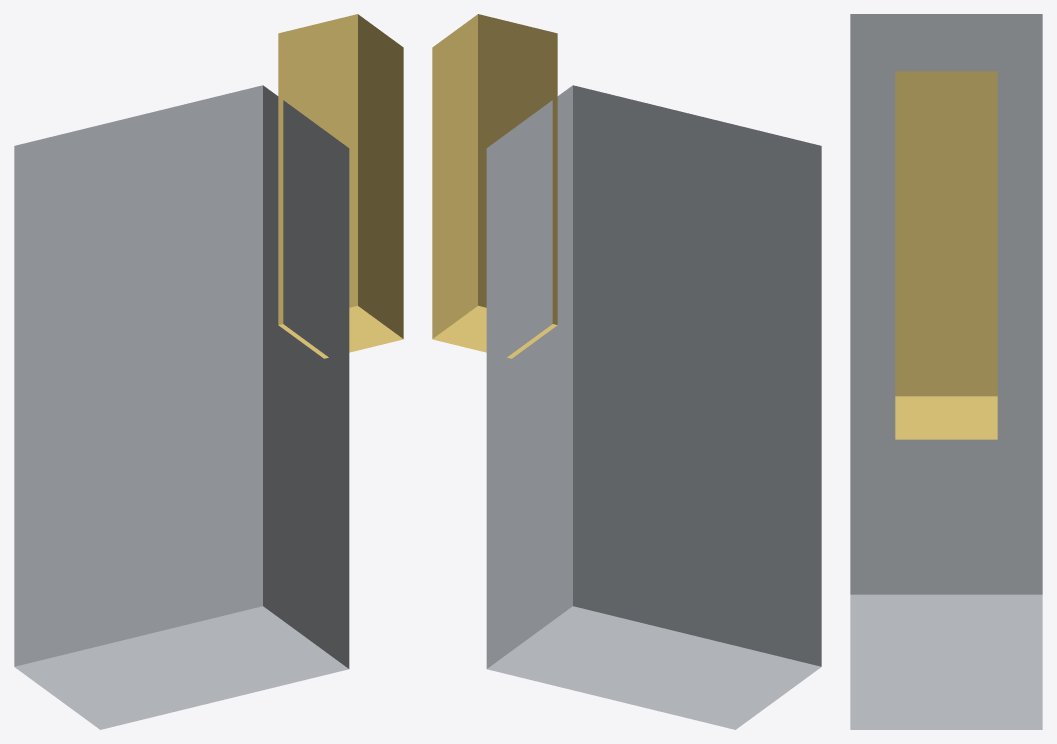
Rendered from courier.glb.
3 renders of one model, left to right at view 1: azimuth 30°, elevation 25°; view 2: azimuth 150°, elevation 25°; view 3: azimuth 270°, elevation 25°, orthographic. The views are drawn at different scales.
Parts seen in each view (by area): view 1: Body, Arm; view 2: Body, Arm; view 3: Body, Arm.
Boxes of the visible parts, x1=… form: Body: x1=14, y1=85, x2=349, y2=729; Arm: x1=278, y1=14, x2=403, y2=358; Body: x1=486, y1=85, x2=821, y2=729; Arm: x1=432, y1=14, x2=557, y2=358; Body: x1=850, y1=14, x2=1042, y2=729; Arm: x1=895, y1=71, x2=997, y2=439.
Size of the model in its own units: 0.65 by 1.13 by 0.3.
